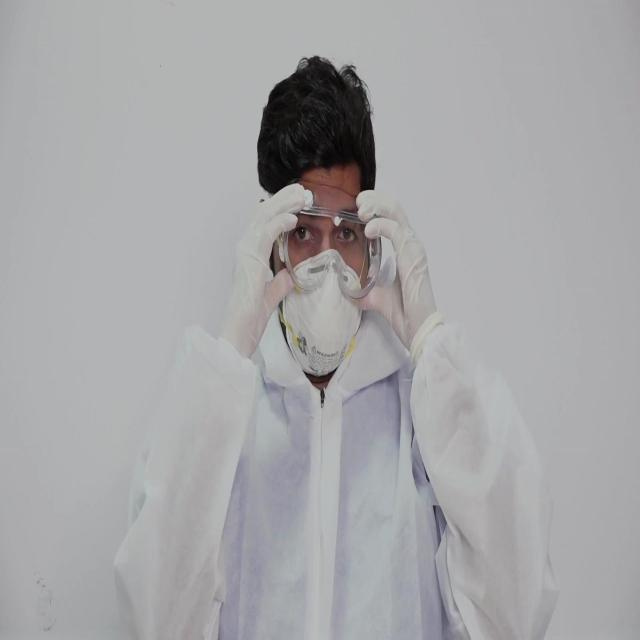Coverall: (114, 323, 558, 639)
Gloves: (223, 181, 306, 364), (356, 188, 436, 351)
Goggles: (279, 181, 383, 304)
Mask: (281, 248, 364, 379)
